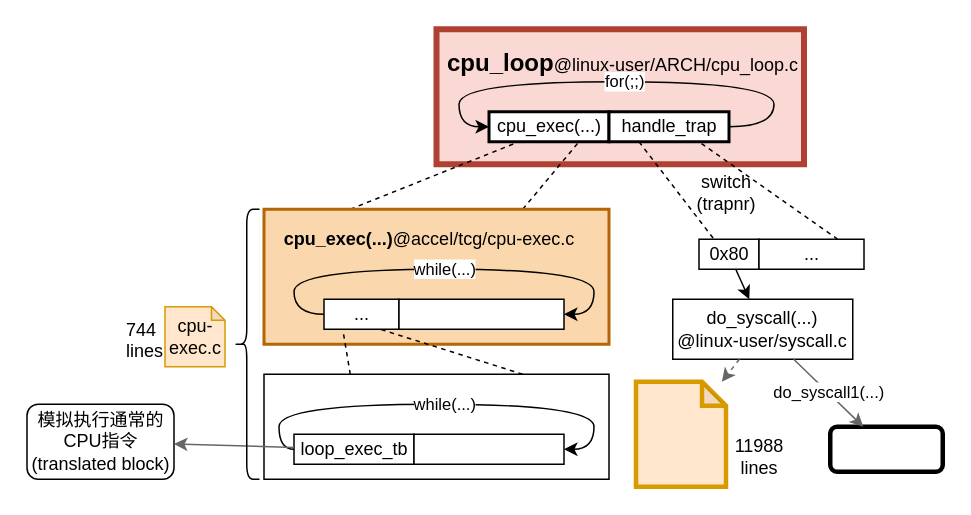
The diagram is 971 pixels wide and 515 high, and some of its shapes have lost their labels. The centre of each missing label's shape, as x and y in pixels:
handle_exception: the point at 481,313
handle_interrupt: the point at 488,448
switch(系统调用num): the point at 885,448
syscall.c: the point at 680,433
